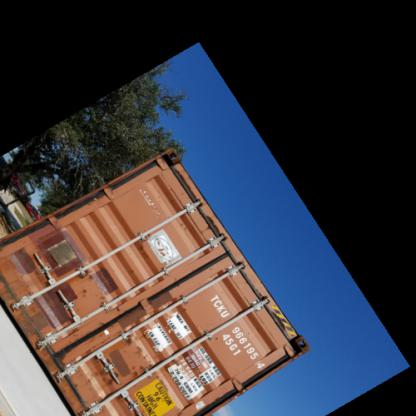Damage: (20, 304, 57, 342), (125, 339, 153, 377), (88, 368, 122, 395), (72, 282, 110, 300)
